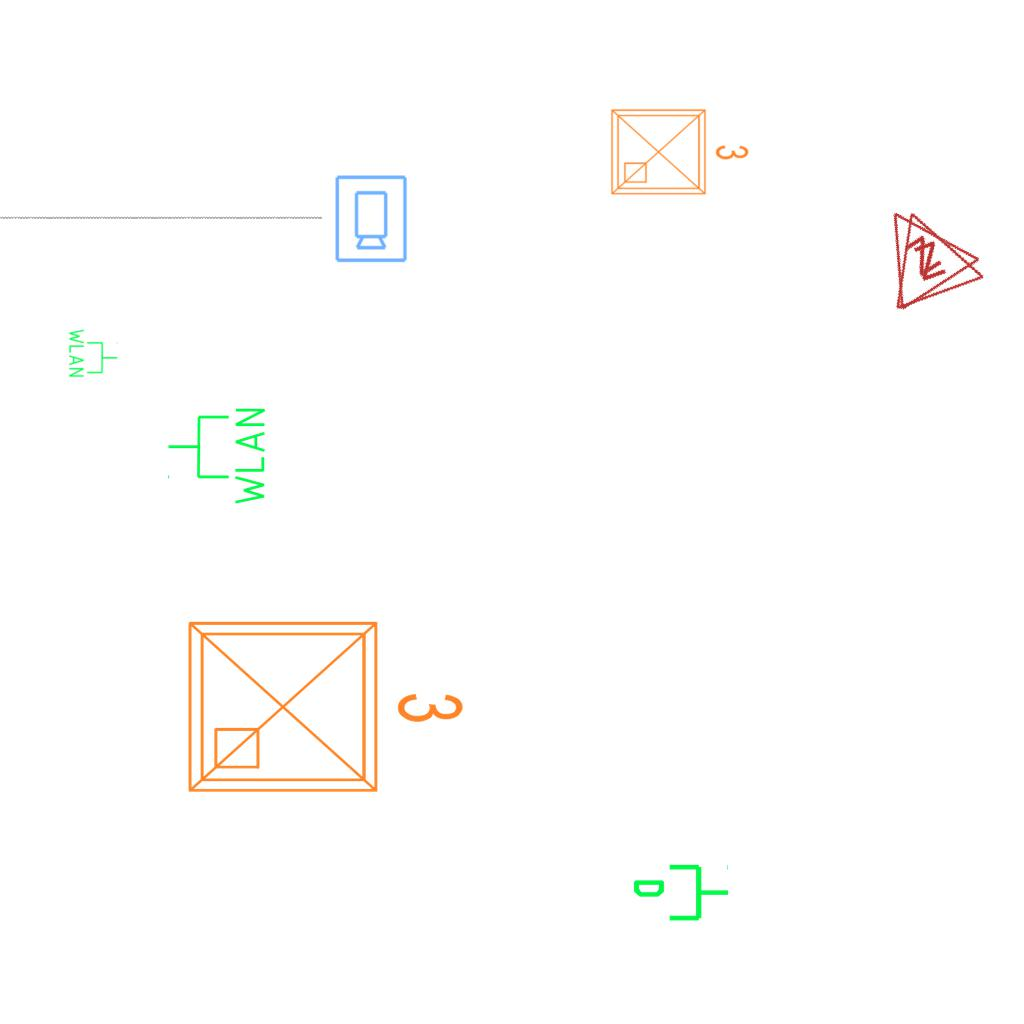Datenanschluss_einfach: (631, 860, 731, 929)
Einbaudownlights_LED_Konferenzraeume: (174, 599, 474, 807), (604, 98, 754, 202)
KFO_Kamera_mit_Festobjektiv: (332, 173, 409, 264)
WLAN: (165, 404, 269, 509), (67, 327, 119, 379)
Zimmersignalleuchte: (848, 181, 986, 319), (861, 190, 989, 318)
